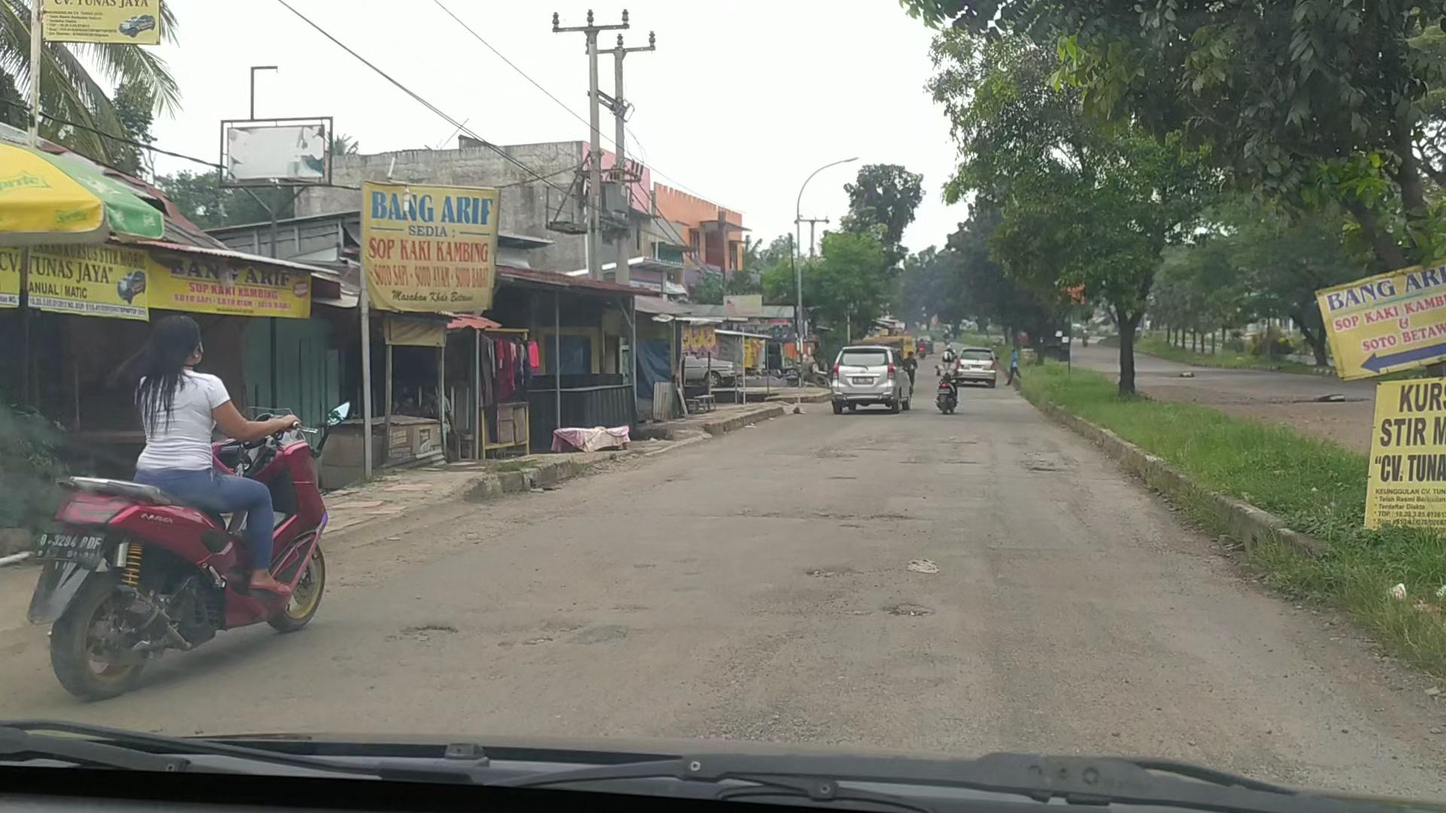pothole: (737, 506, 915, 522), (398, 625, 460, 640), (806, 565, 859, 581), (883, 602, 935, 618), (1029, 465, 1057, 473), (824, 475, 859, 480)
